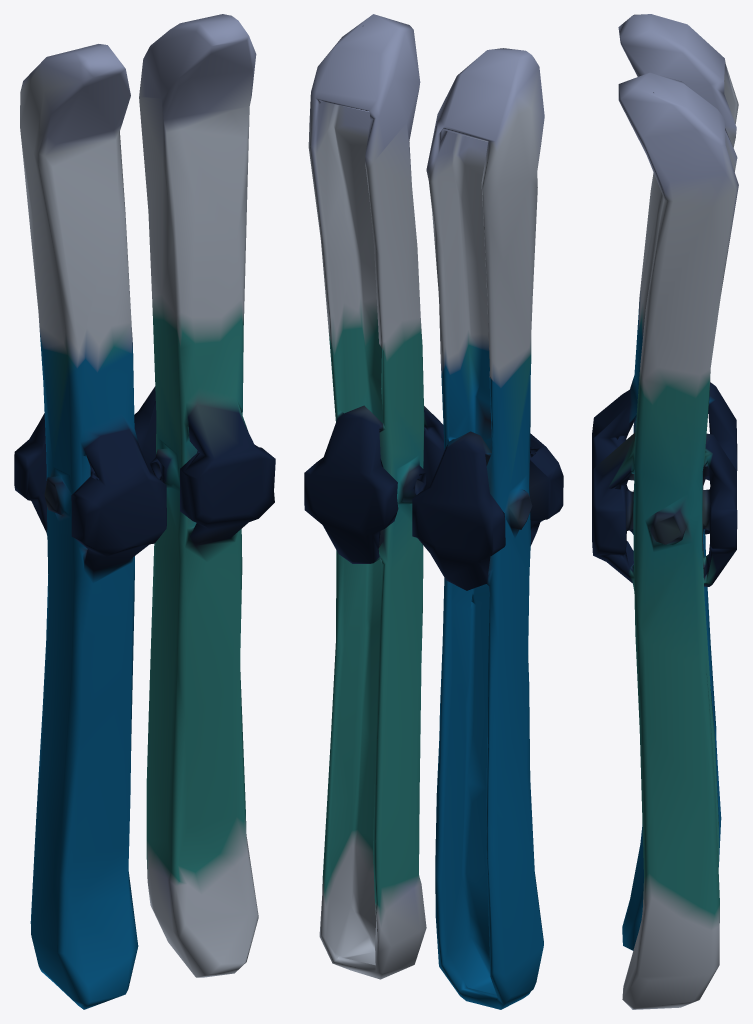
File: gen3d-ski-lod0.glb
3 views of the same model, side by side, from view 1: azimuth 30°, elevation 25°; view 2: azimuth 150°, elevation 25°; view 3: azimuth 270°, elevation 25° (orthographic). The views are drawn at different scales.
Parts seen in each view (by area): view 1: part_0; view 2: part_0; view 3: part_0.
Part boxes in pixels (bbox=[...]): part_0: bbox=[14, 14, 275, 1009]; part_0: bbox=[304, 14, 563, 1009]; part_0: bbox=[592, 14, 738, 1009].
Bounding box in the file's own units: 0.2333 × 0.9996 × 0.1438.
